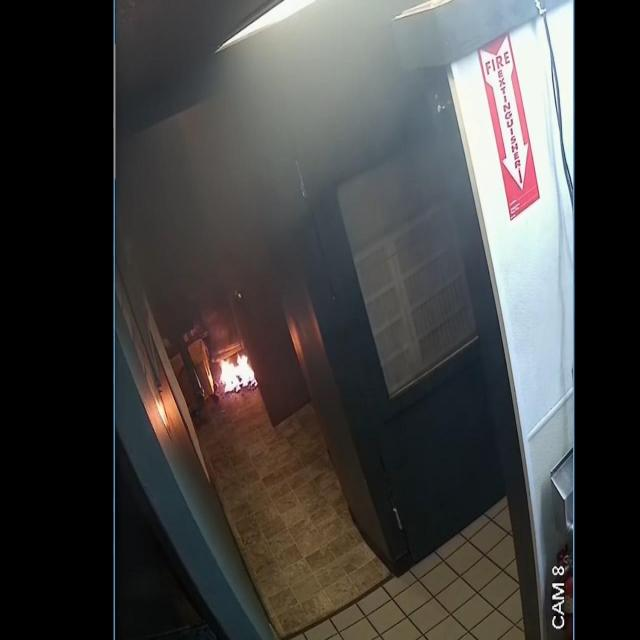fire: (219, 354, 256, 392)
